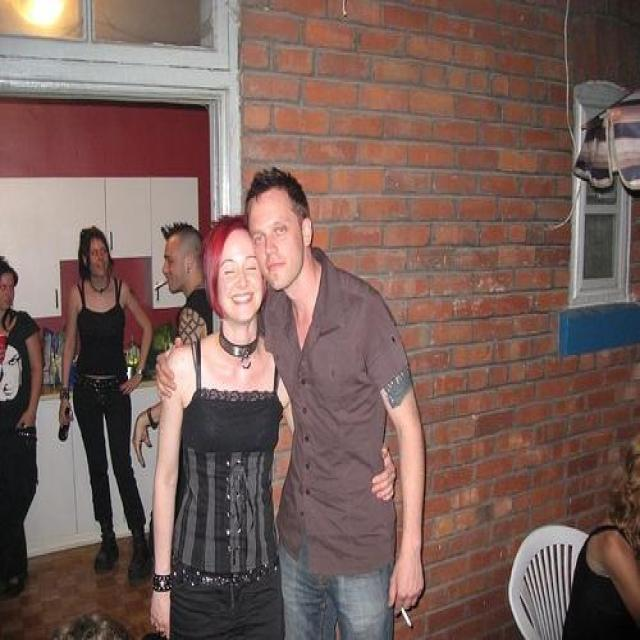Non-Gloves: (362, 420, 399, 514), (385, 556, 430, 632), (120, 410, 156, 476), (152, 585, 180, 637), (111, 362, 146, 399), (10, 402, 36, 442), (48, 393, 75, 431)
